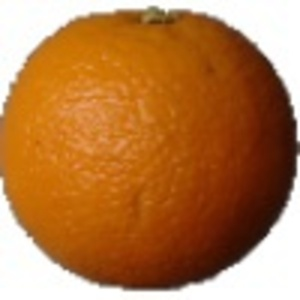laranja: (2, 4, 297, 291)
